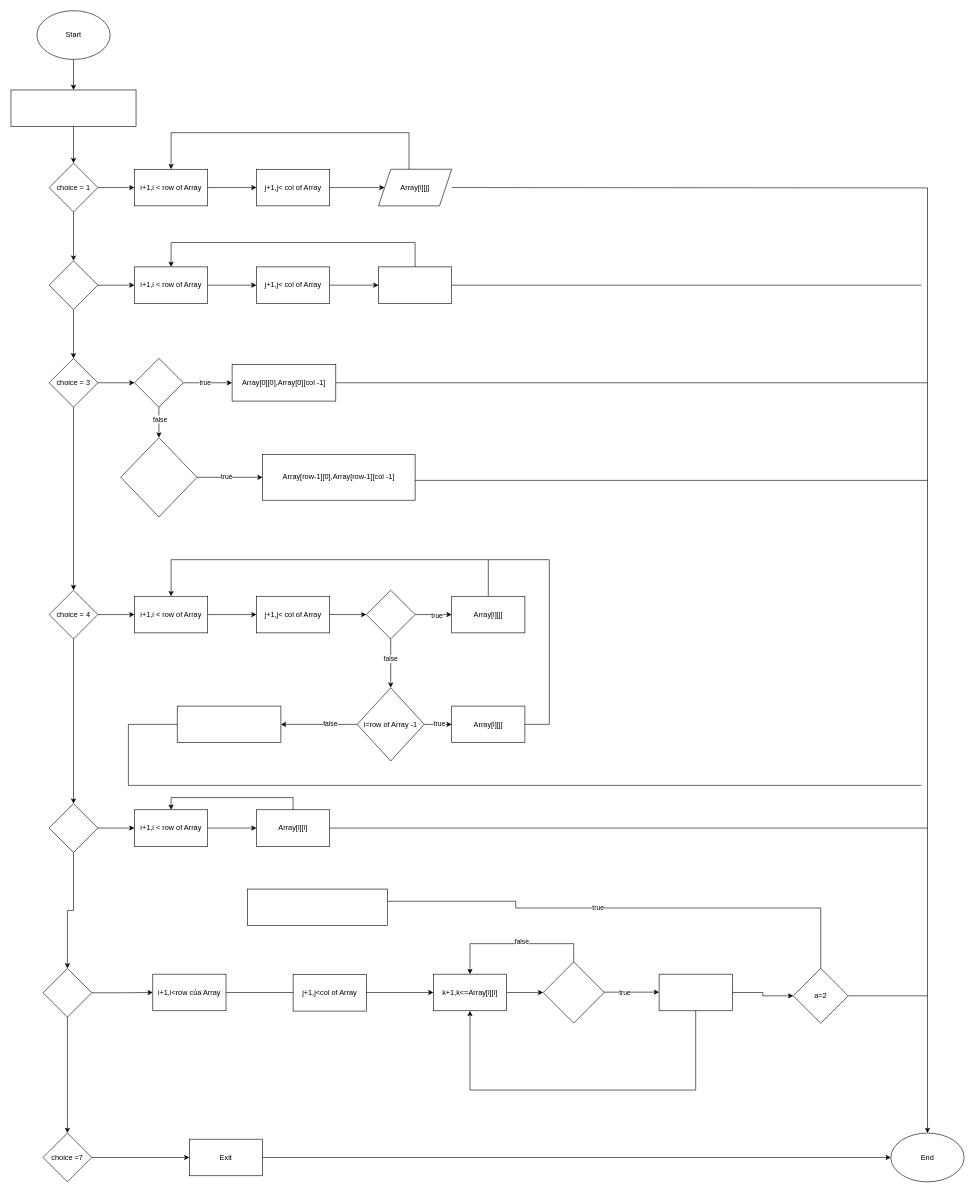
This 975x1193 diagram has some shape labels left out. Each missing label, with the centre of its shape:
a+1: point 695,992
Array[i][0],Array[i][col-1]: point 229,724
Array[i][i] chia hết k: point 573,992
Array[i][j] là số nguyên tố: point 317,907
choice = 2: point 73,285
choice = 5: point 73,827
choice = 6: point 67,992
i=0: point 390,614
i=0,j=0,k=0,a=0,choice,Array: point 73,108
In ra Array[i][j]: point 415,284
row of Array= row-1: point 158,477
row of Arrayf=0: point 158,382
